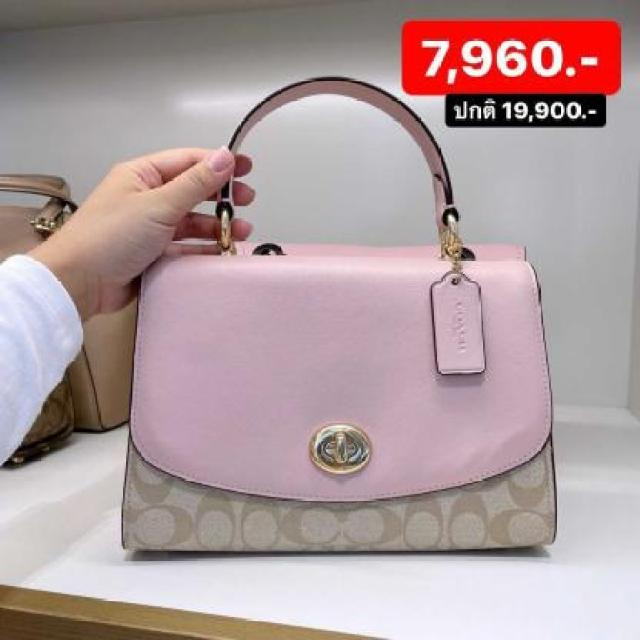Bag: (119, 71, 561, 558)
